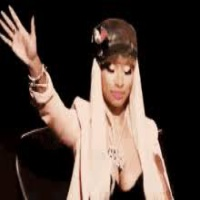ring: (1, 18, 14, 39)
